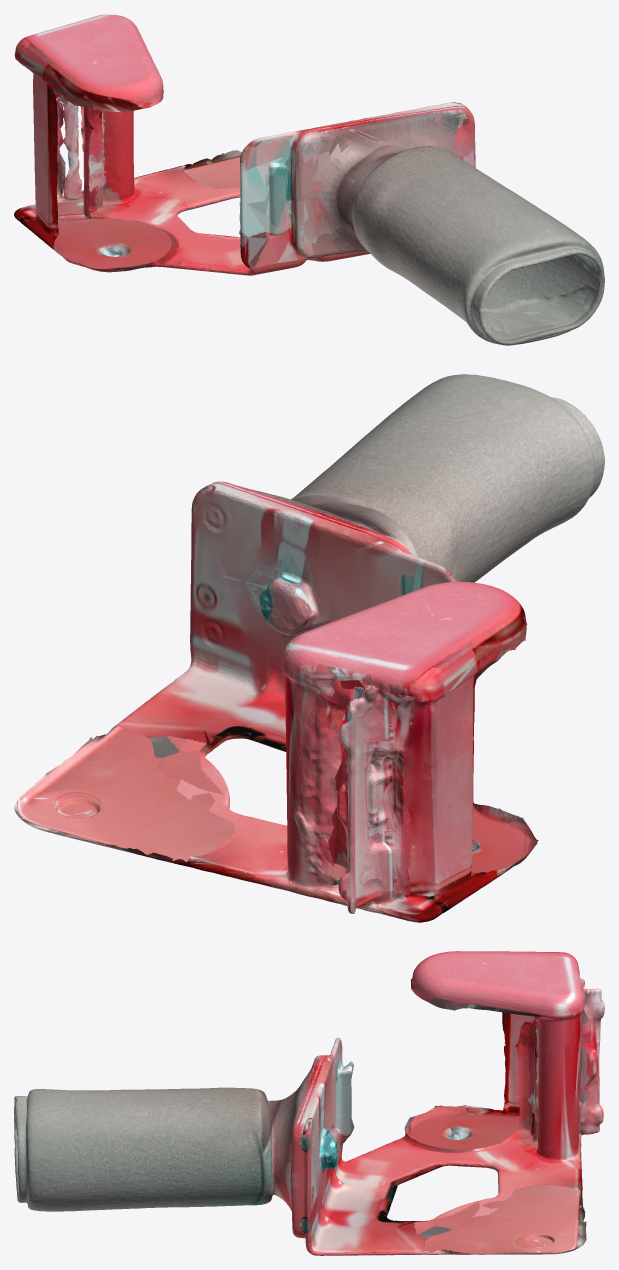
Rendered from tape_cutter.glb.
The picture shows the model from 3 angles, top to bottom: view 1: azimuth 30°, elevation 25°; view 2: azimuth 150°, elevation 25°; view 3: azimuth 270°, elevation 25°; orthographic projection. The views are drawn at different scales.
Visible parts, largest first — view 1: tape_cutter; view 2: tape_cutter; view 3: tape_cutter.
Part boxes in pixels (<box>): tape_cutter: <box>14,14,604,345</box>; tape_cutter: <box>14,374,604,922</box>; tape_cutter: <box>14,951,604,1255</box>.
Bounding box in the file's own units: 0.1191 × 0.0646 × 0.1985.
Materials: 25 (25 with a texture image).
